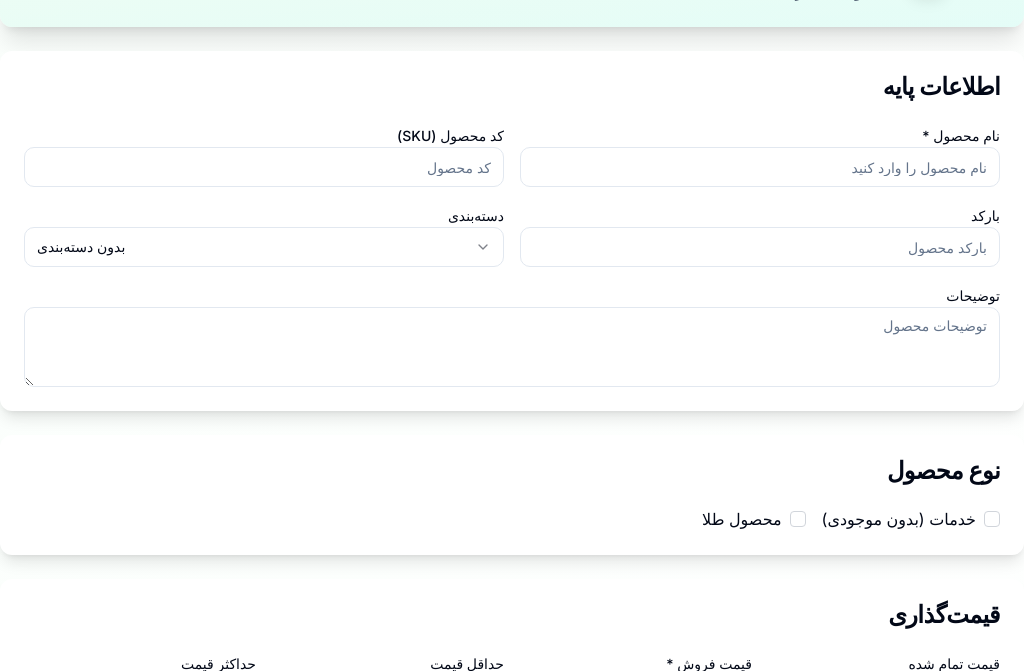
Test case: ProductForm › validates gold product required fields
The width and height of the screenshot is (1024, 671).
# Fill basic required fields
Type "محصول طلا" into the field labelled "نام محصول *". click: (760, 167)
box: [520,147,1000,187]
(page scrolled)
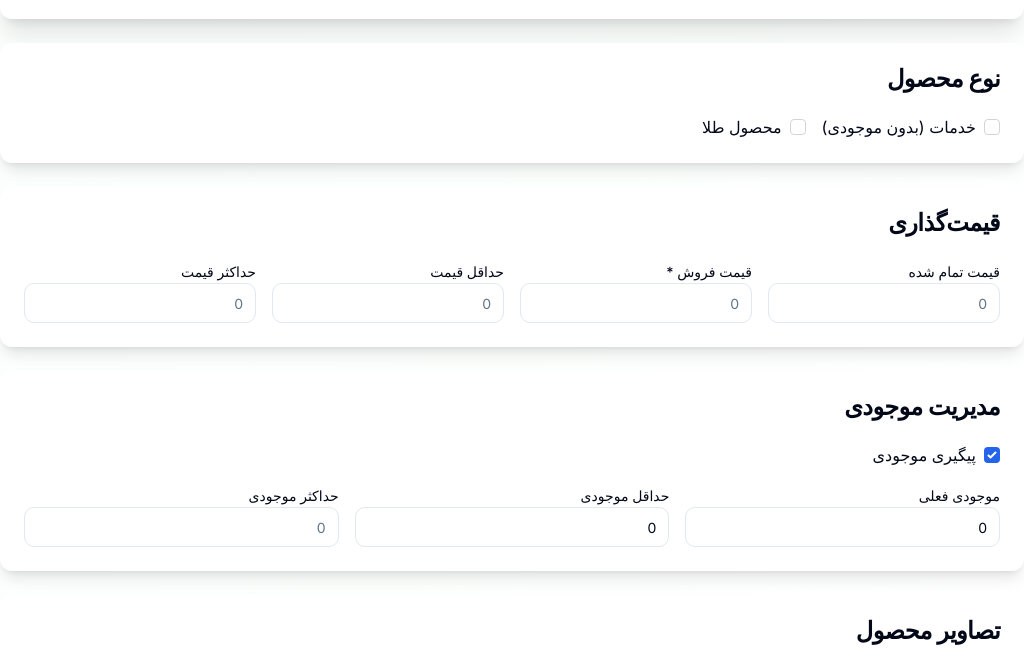
Type "5000" into the number field labelled "قیمت فروش *". click: (636, 303)
box: [520,283,752,323]
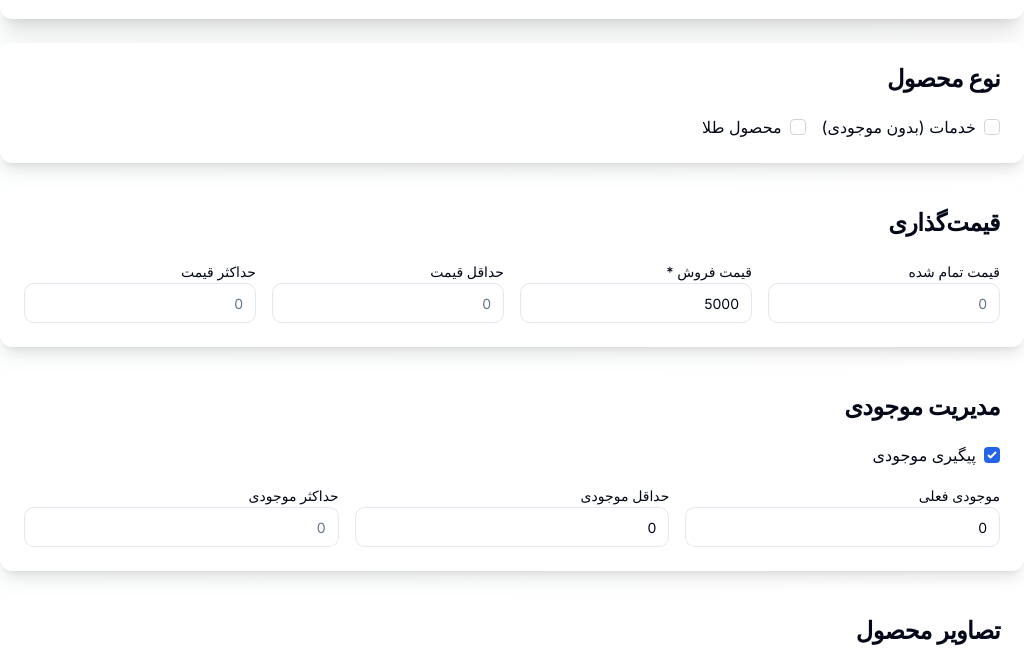
# Check gold product
Click the checkbox labelled "محصول طلا". click: (798, 127)
box: [790,119,806,135]
(page scrolled)
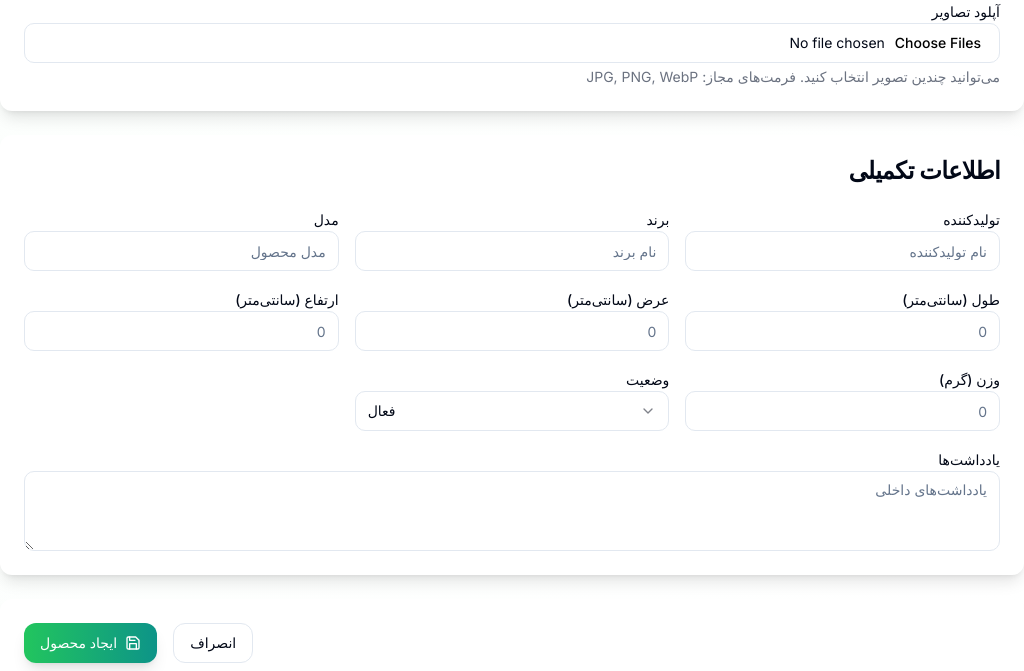
# Try to submit without gold fields
Click the button "ایجاد محصول". click: (91, 643)
box: [24,623,157,663]
(page scrolled)
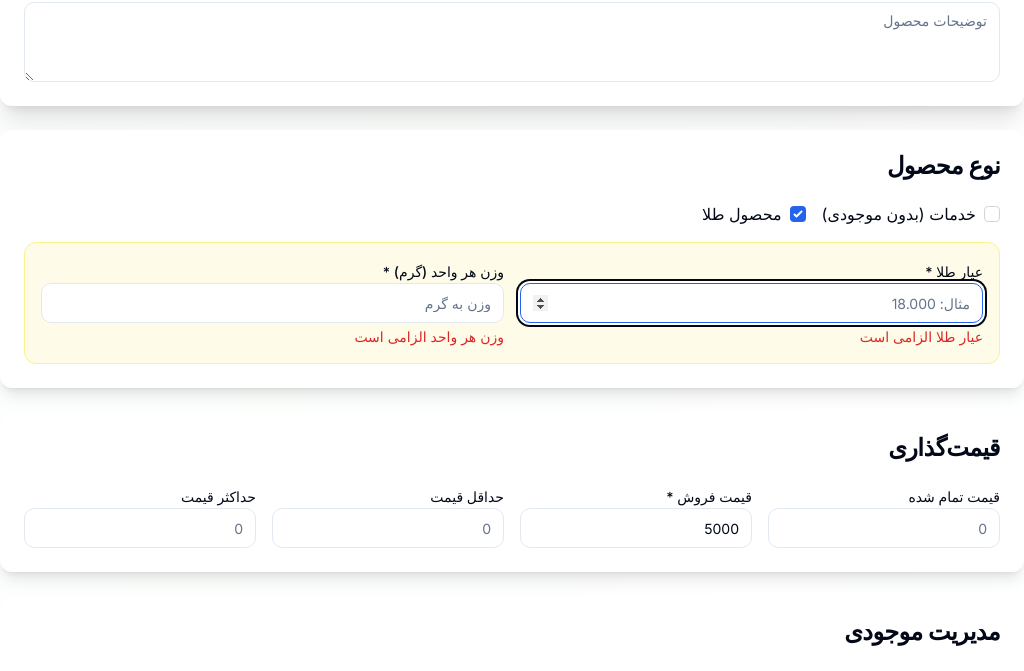
Expected: the text "عیار طلا الزامی است" is shown, [860,328,983,345]
Expected: the text "وزن هر واحد الزامی است" is shown, [354,328,504,345]
